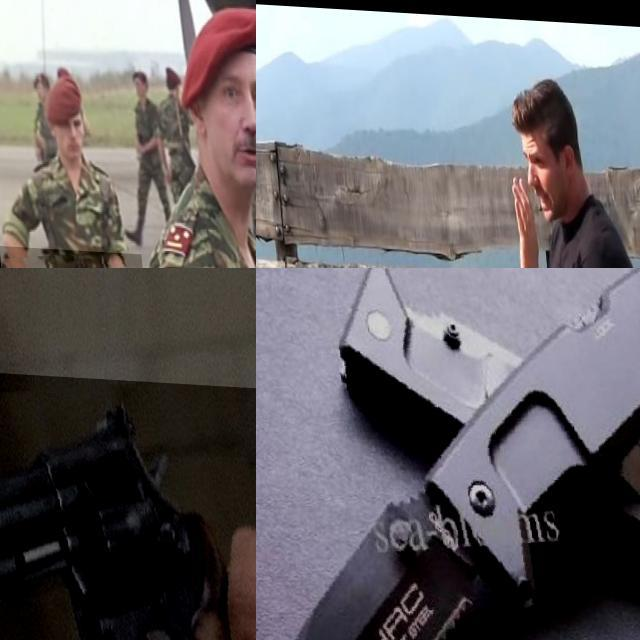-: (256, 268, 640, 640)
gun-knife-thesis - v11 Yolov5 augmented: (0, 365, 256, 640)
